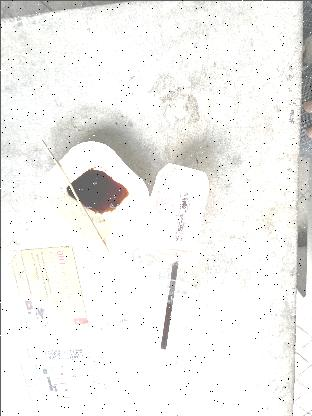Others: (18, 115, 119, 256), (38, 129, 150, 249), (136, 158, 212, 262), (140, 258, 210, 318), (154, 249, 184, 355)
